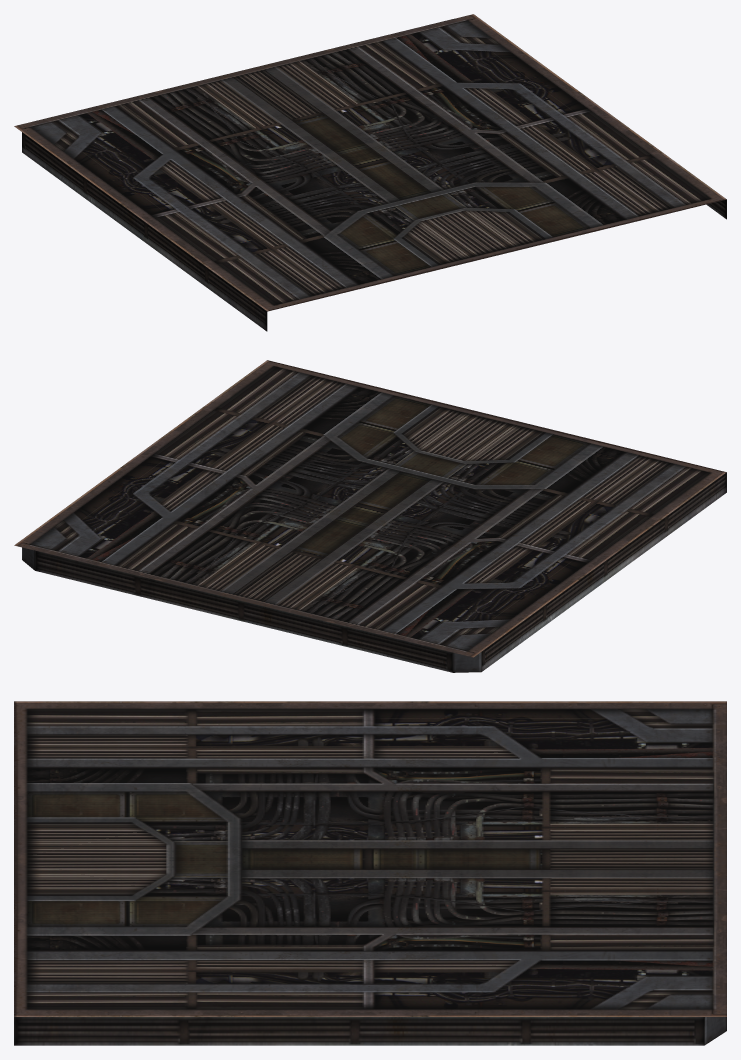
The model's file is ARC_CeilingLow_Single_EndSide.FBX.
3 renders of one model, top to bottom at view 1: azimuth 30°, elevation 25°; view 2: azimuth 150°, elevation 25°; view 3: azimuth 270°, elevation 25°, orthographic. The views are drawn at different scales.
Visible parts, largest first — view 1: ARC_CeilingLow_Single_EndSide; view 2: ARC_CeilingLow_Single_EndSide; view 3: ARC_CeilingLow_Single_EndSide.
Boxes of the visible parts, box(x1,y1,x2,y2) form: ARC_CeilingLow_Single_EndSide: box(14, 14, 726, 331); ARC_CeilingLow_Single_EndSide: box(14, 360, 726, 672); ARC_CeilingLow_Single_EndSide: box(14, 701, 726, 1045).
Bounding box in the file's own units: 550 × 23.31 × 525.
Materials: 1 (1 with a texture image).
